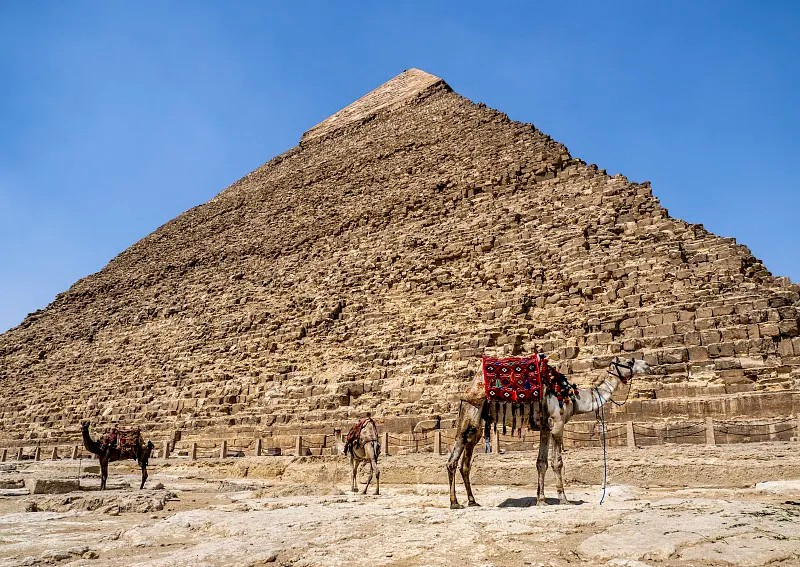Pyramid: (1, 68, 800, 409)
